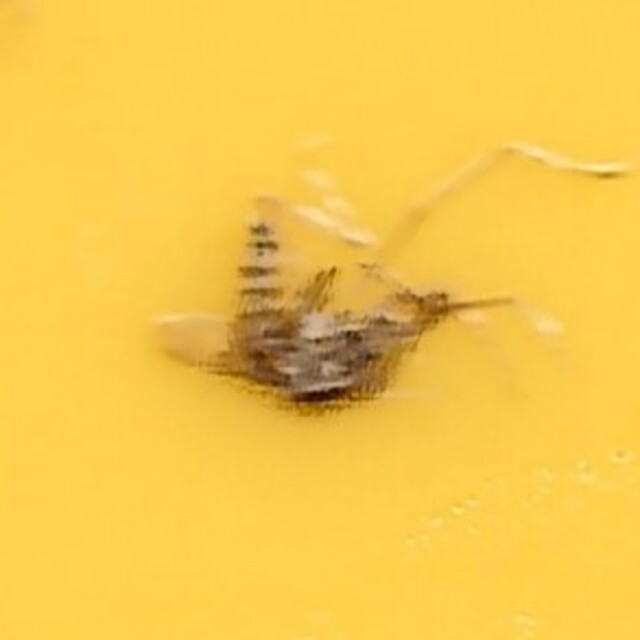Nematocera: (218, 215, 422, 425)
